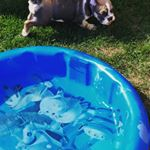puppy: (19, 1, 121, 41)
